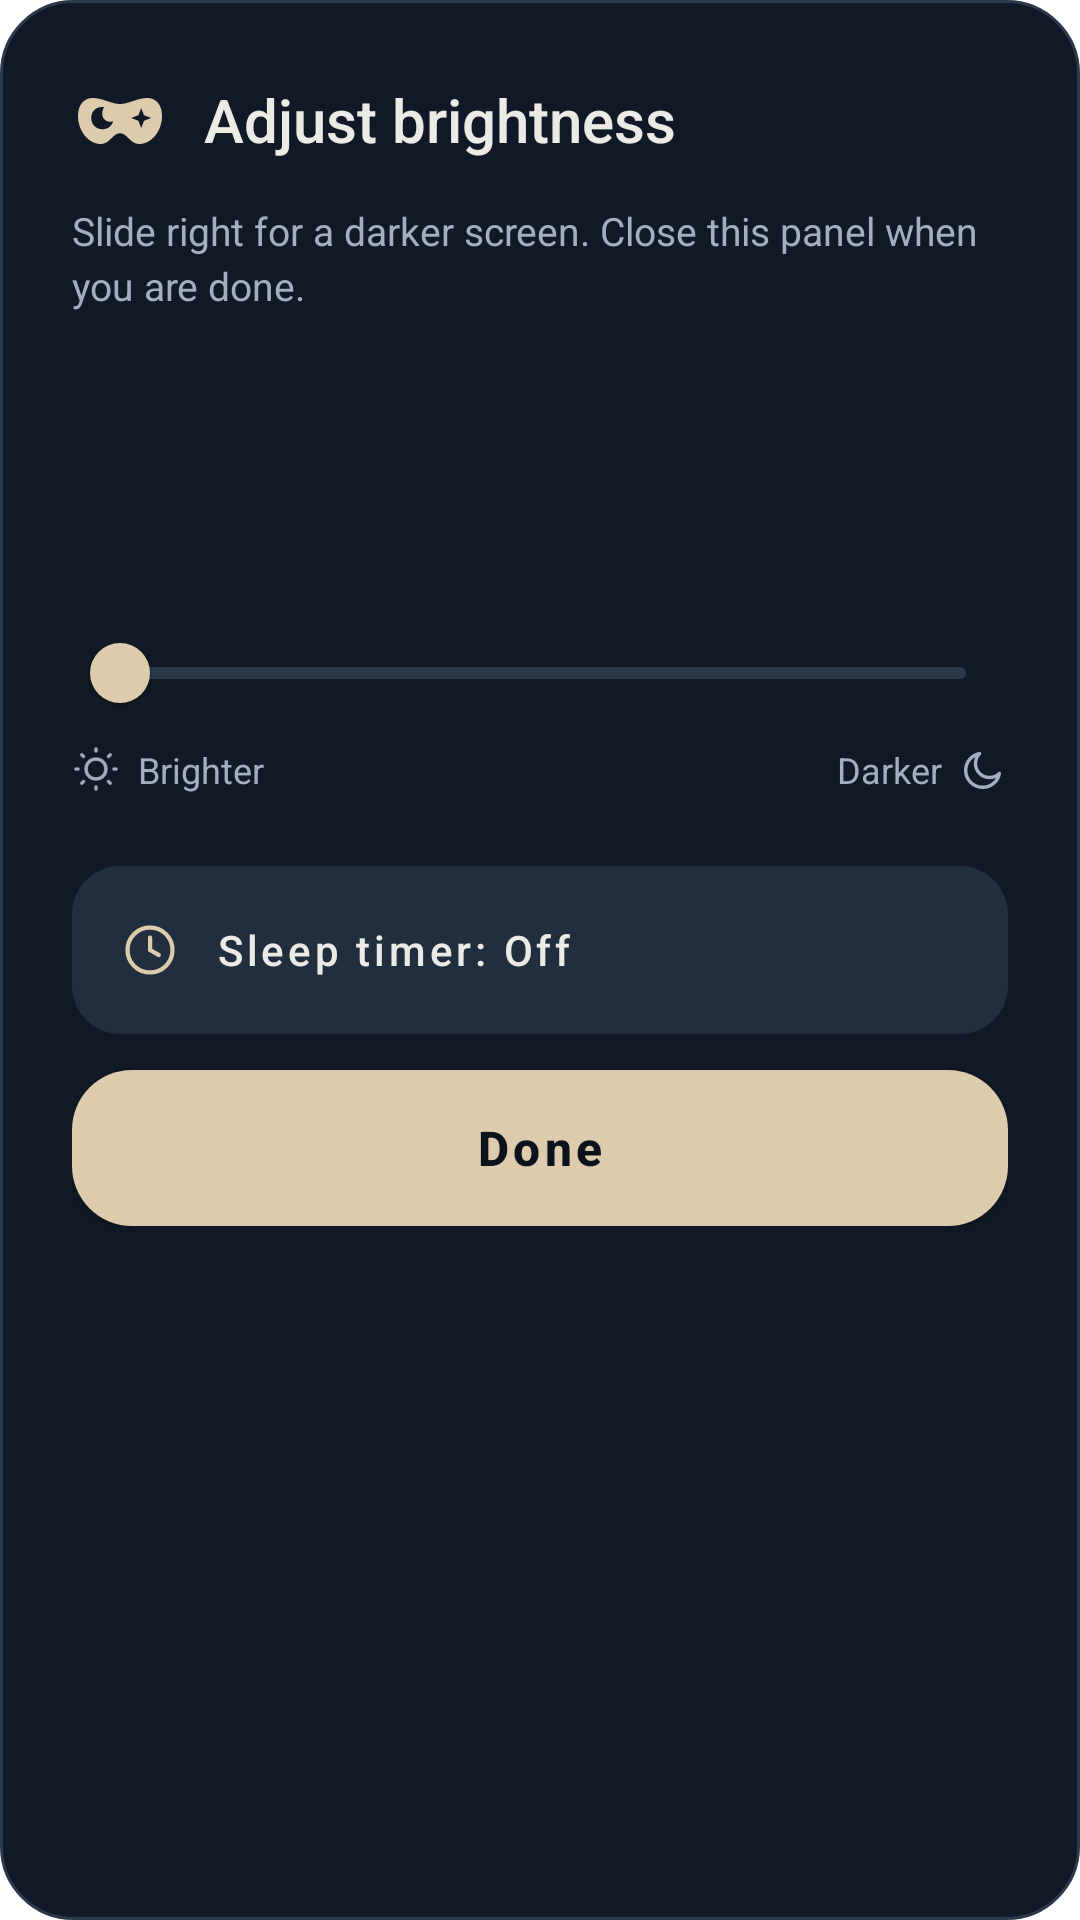

Icons on this 1080 × 1920 Android screen, each with its box as box(x1, y1, x2, y2):
moon: box(964, 752, 1001, 789)
sun: box(74, 747, 118, 791)
